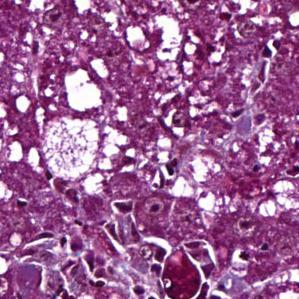ballooning: (39, 113, 105, 186)
